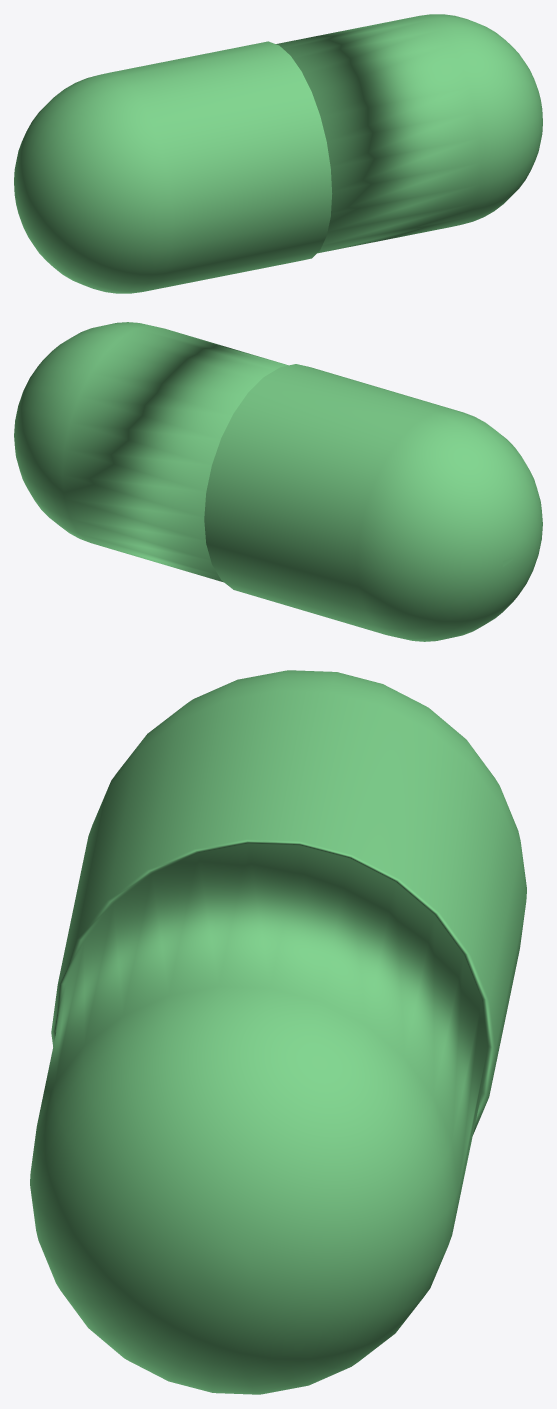
File: pill.fbx
3 renders of one model, top to bottom at view 1: azimuth 30°, elevation 25°; view 2: azimuth 150°, elevation 25°; view 3: azimuth 270°, elevation 25°, orthographic. The views are drawn at different scales.
Visible parts, largest first — view 1: pill:pill02; view 2: pill:pill02; view 3: pill:pill02.
Boxes of the visible parts, <box> form: pill:pill02: <box>14,14,542,293</box>; pill:pill02: <box>14,322,542,641</box>; pill:pill02: <box>30,670,526,1394</box>.
Bounding box in the file's own units: 0.2373 × 0.0938 × 0.1054.
